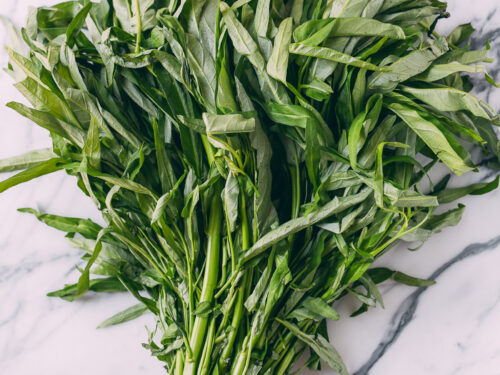Kangkung: (88, 30, 392, 364)
